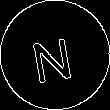N_N: (31, 27, 79, 83)
